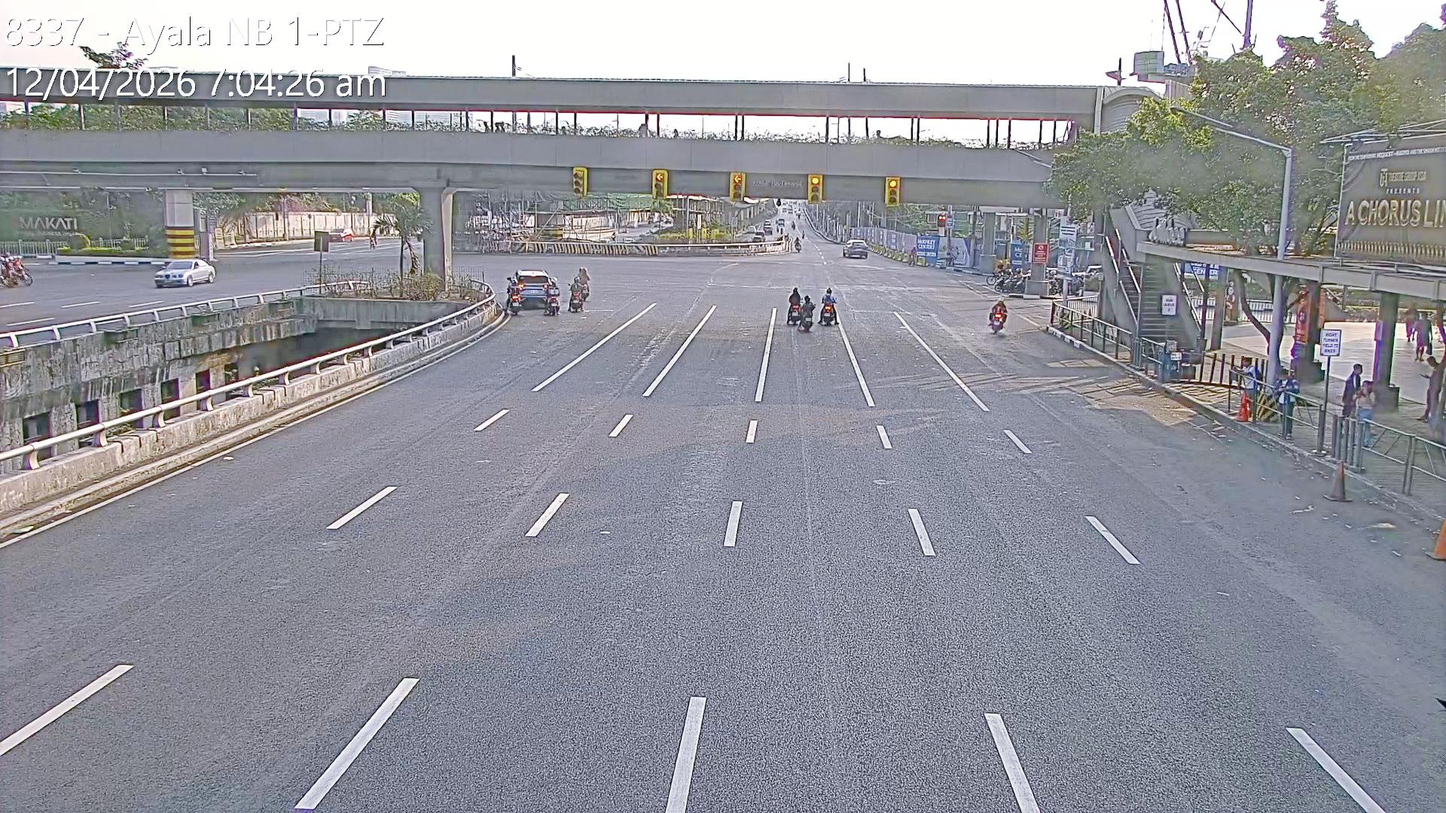Car: (508, 269, 560, 313), (153, 260, 217, 288), (843, 238, 869, 259)
Motor: (782, 287, 805, 328), (568, 273, 589, 312), (797, 291, 816, 333), (573, 264, 594, 300), (819, 288, 838, 324), (990, 302, 1008, 330), (507, 282, 523, 313)
Not Accident: (504, 266, 564, 315), (786, 285, 816, 331), (568, 265, 594, 316)
